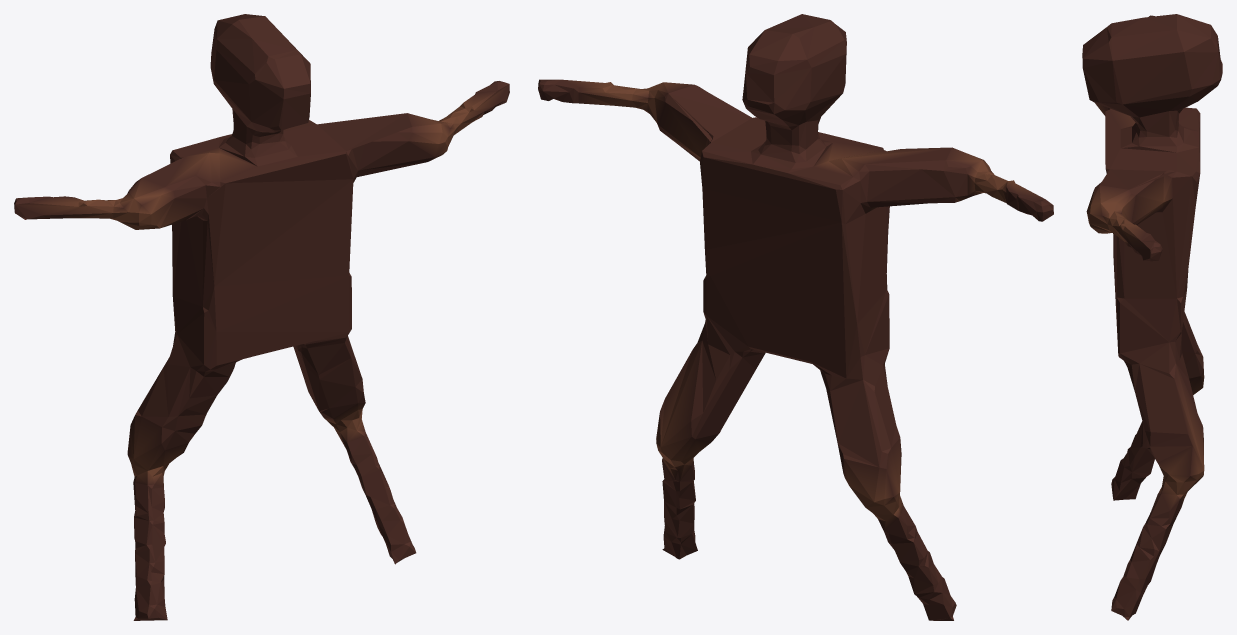
File: Robots and Humanoids(3).glb
The picture shows the model from 3 angles, left to right: view 1: azimuth 30°, elevation 25°; view 2: azimuth 150°, elevation 25°; view 3: azimuth 270°, elevation 25°; orthographic projection. The views are drawn at different scales.
Parts seen in each view (by area): view 1: Root; view 2: Root; view 3: Root.
Part boxes in pixels (<box>): Root: <box>14,14,509,620</box>; Root: <box>538,14,1053,620</box>; Root: <box>1082,14,1222,620</box>.
Bounding box in the file's own units: 3.37 × 3.6 × 0.8507.
